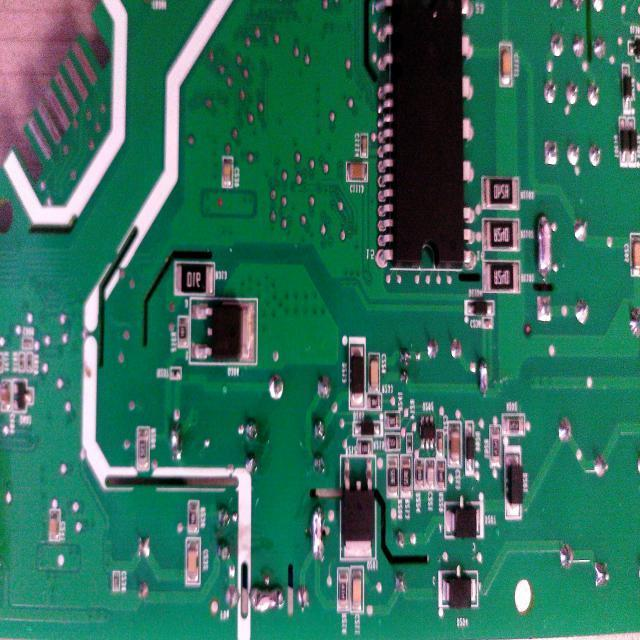Soldering shorted: (248, 576, 286, 616), (534, 202, 554, 278), (308, 494, 328, 567), (166, 414, 187, 464), (474, 353, 490, 402)
